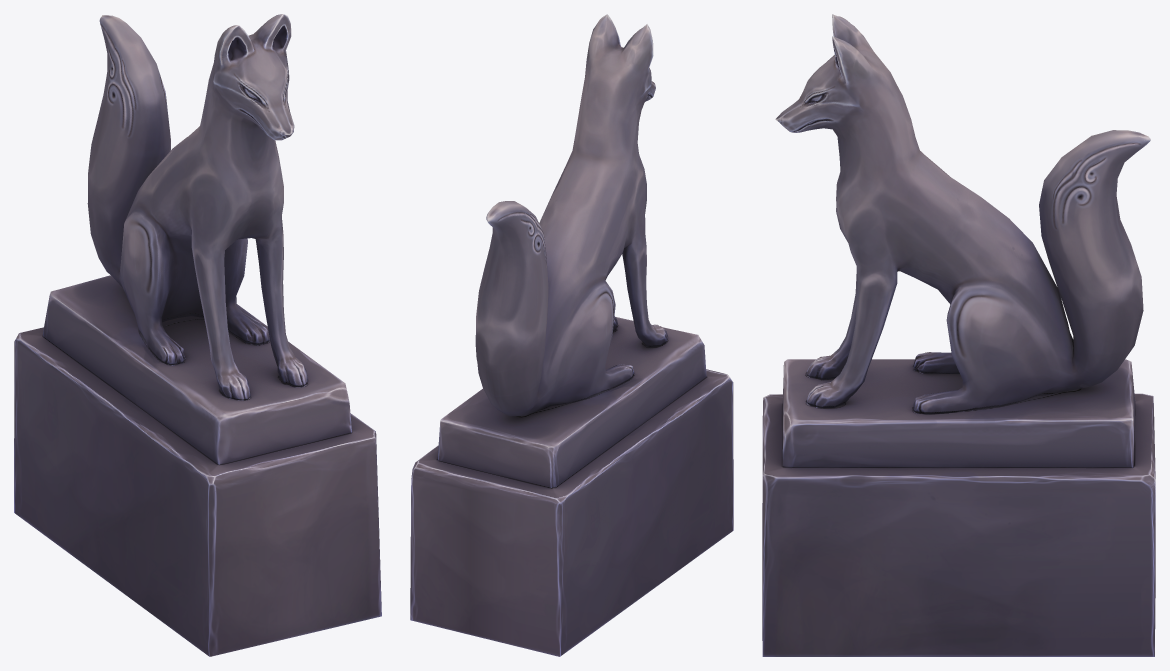
File: fox_stone_statue_handpainted_kitsune.glb
3 renders of one model, left to right at view 1: azimuth 30°, elevation 25°; view 2: azimuth 150°, elevation 25°; view 3: azimuth 270°, elevation 25°, orthographic. The views are drawn at different scales.
Visible parts, largest first — view 1: Kitsune_LP; view 2: Kitsune_LP; view 3: Kitsune_LP.
Boxes of the visible parts, box(x1,y1,x2,y2) form: Kitsune_LP: box(14, 14, 381, 656); Kitsune_LP: box(410, 14, 733, 656); Kitsune_LP: box(762, 14, 1155, 656).
Bounding box in the file's own units: 0.0141 × 0.0458 × 0.0277.
Materials: 1 (1 with a texture image).
